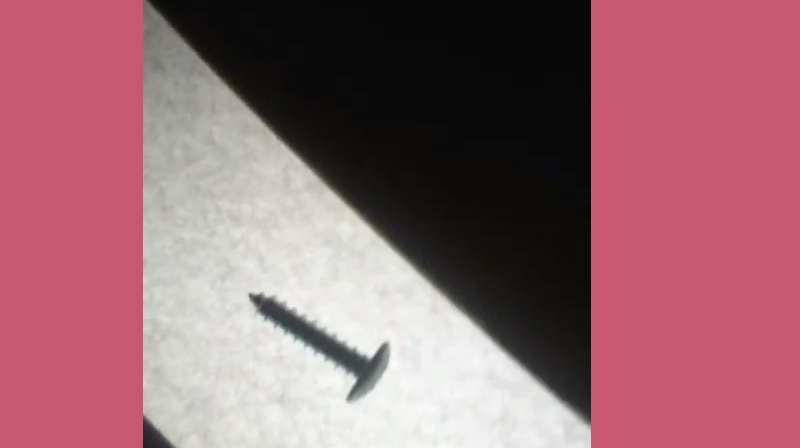S003: (243, 287, 394, 403)
